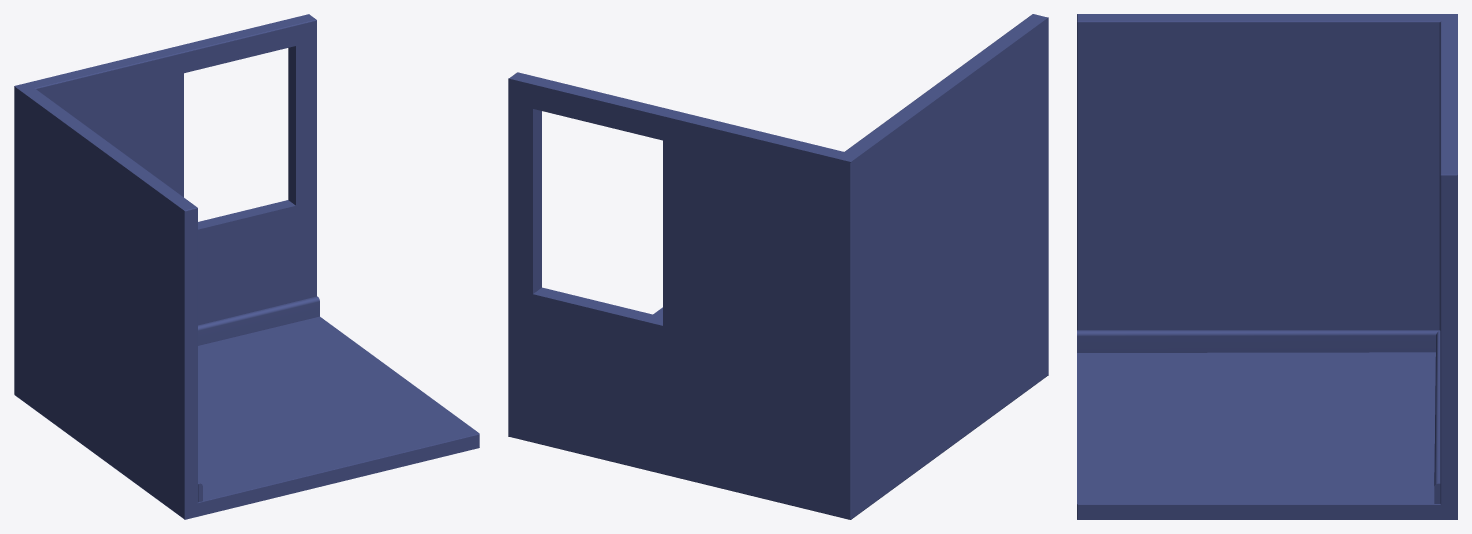
The model's file is wall.glb.
The picture shows the model from 3 angles, left to right: view 1: azimuth 30°, elevation 25°; view 2: azimuth 150°, elevation 25°; view 3: azimuth 270°, elevation 25°; orthographic projection. The views are drawn at different scales.
Parts seen in each view (by area): view 1: Walls, WallFloorPart; view 2: Walls; view 3: Walls, WallFloorPart.
Part boxes in pixels (x1,y1,x2,y2): Walls: (14, 14, 479, 519); WallFloorPart: (198, 296, 319, 502); Walls: (508, 14, 1048, 519); Walls: (1077, 14, 1457, 519); WallFloorPart: (1077, 330, 1440, 503).
Size of the model in its own units: 4 by 4 by 4.
